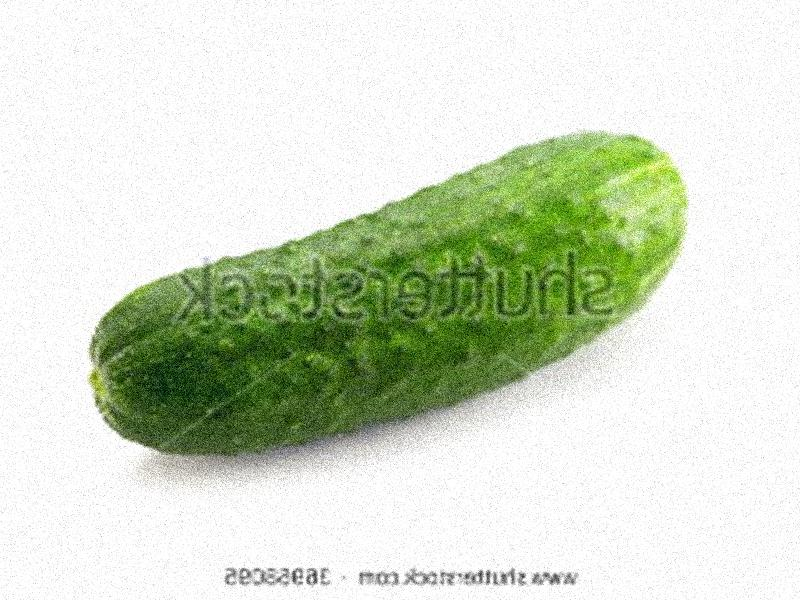Cucumber: (91, 130, 686, 457)
